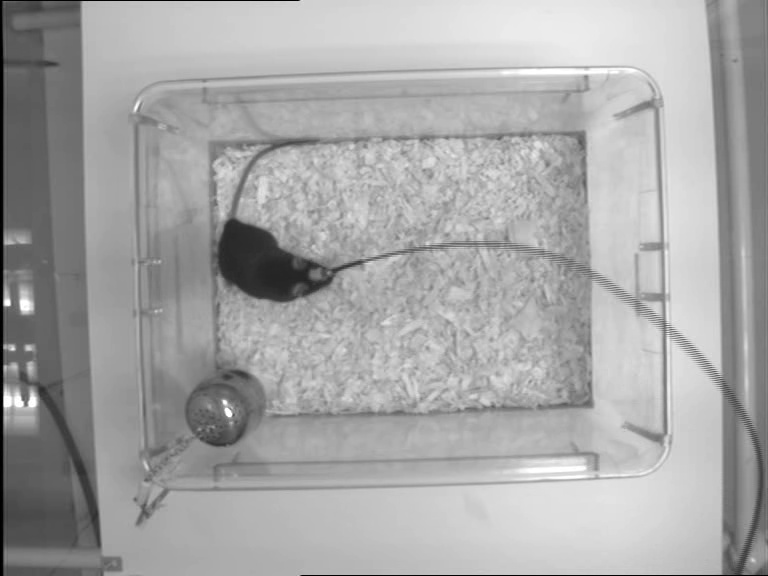mice: (214, 138, 339, 306)
